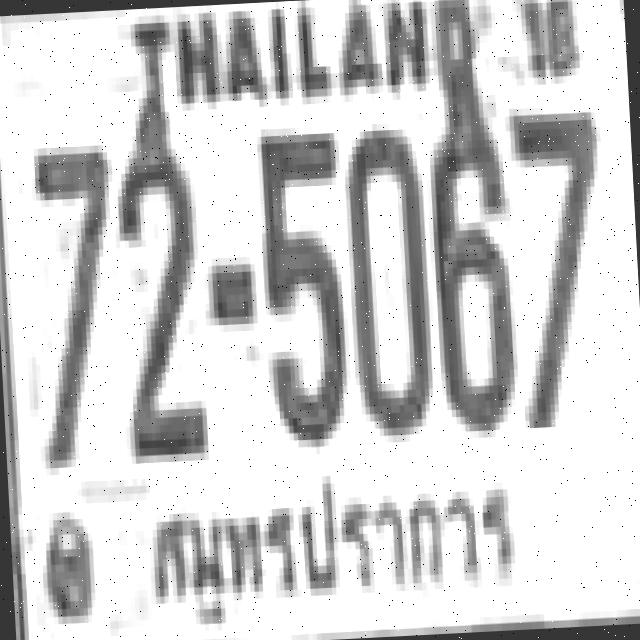0: (342, 122, 431, 430)
2: (110, 133, 204, 457)
5: (254, 126, 348, 442)
6: (423, 110, 512, 426)
7: (507, 105, 609, 422), (26, 138, 120, 462), (29, 138, 116, 416)
SamutPrakan: (140, 466, 527, 614)
